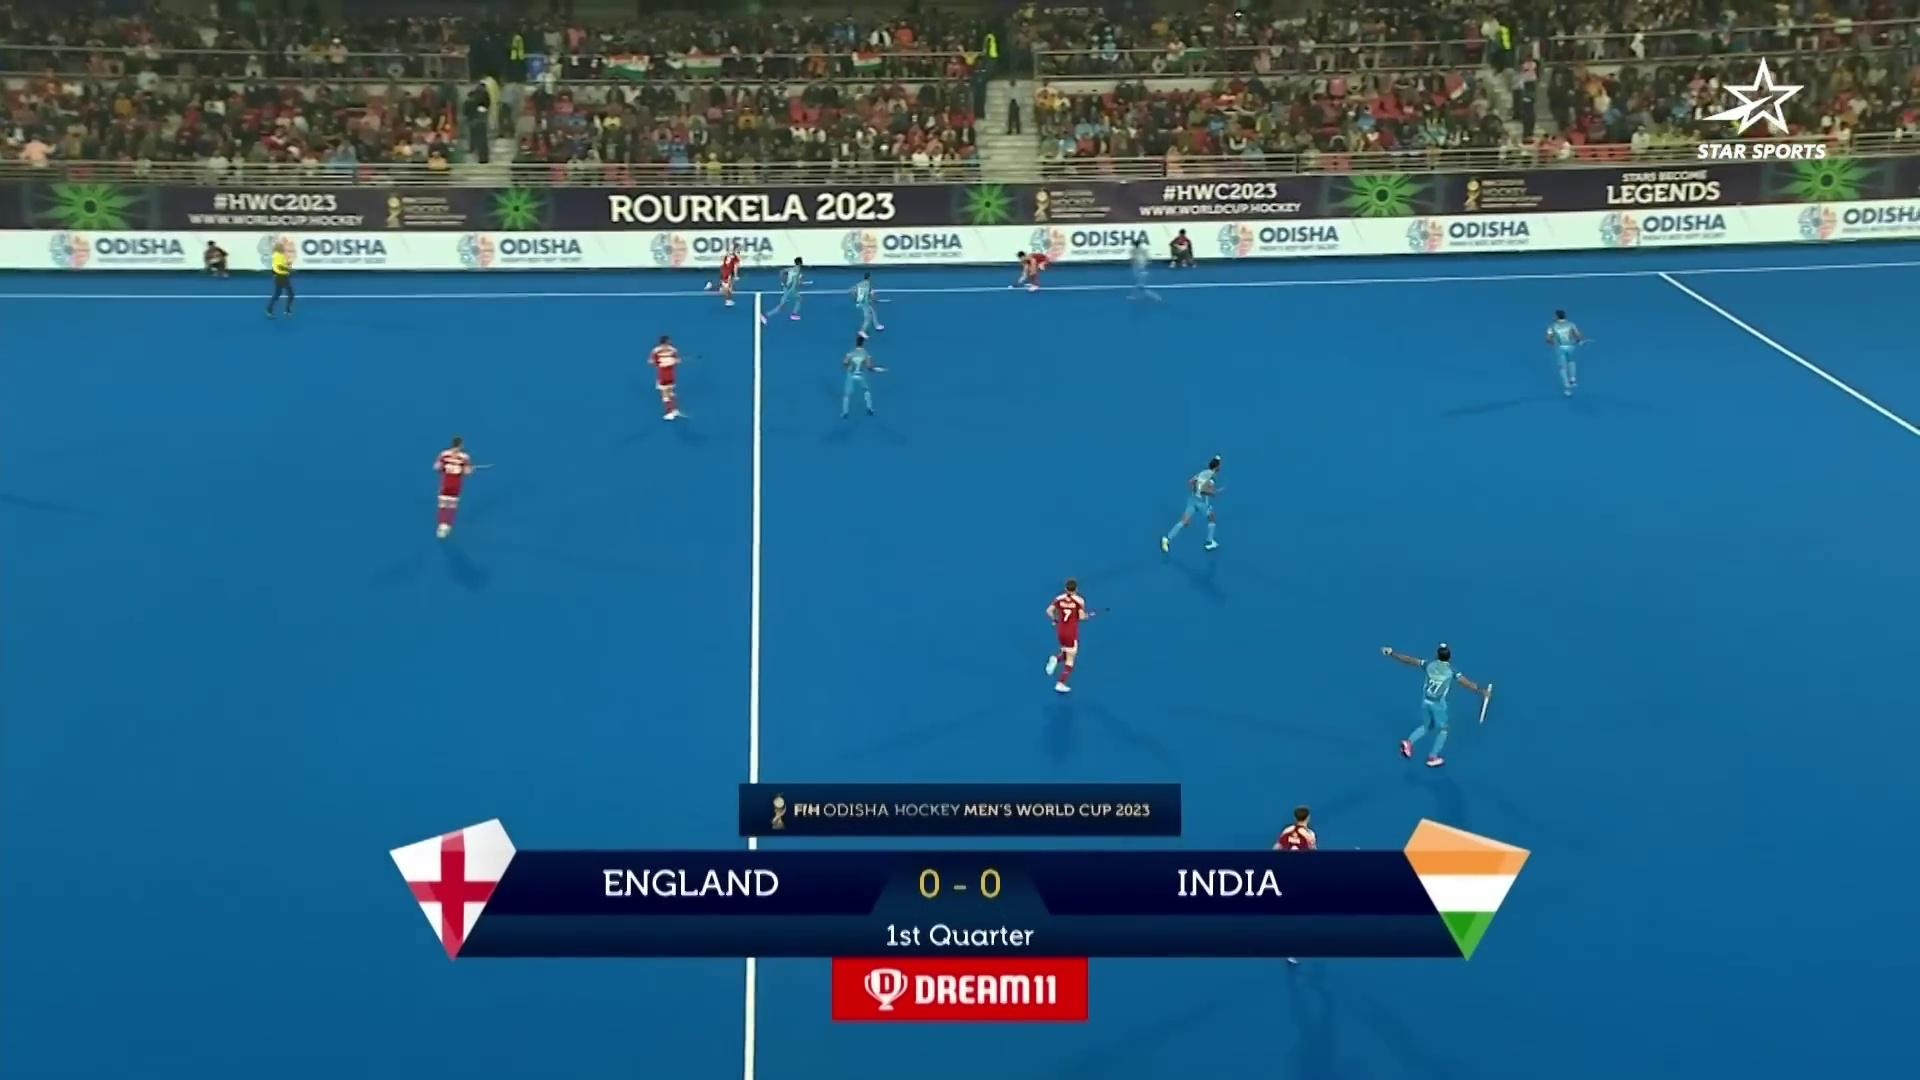ball: (1001, 282, 1019, 296)
